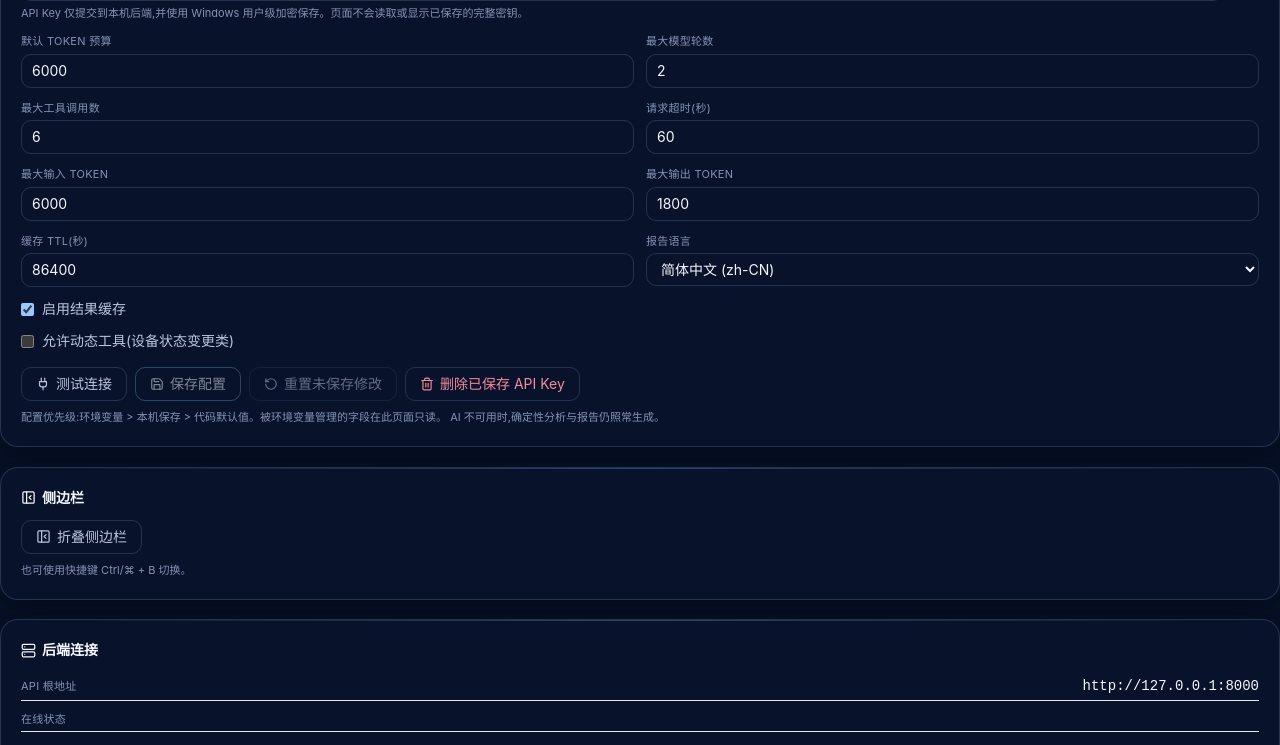
Test: M6B — AI 配置表单 › 测试连接状态 authentication_failed 有中文友好提示
(page scrolled)
Step 1. Click the button with test id "ai-settings-test" → {"x": 74, "y": 384}, box [21,367,127,401]
(page scrolled)
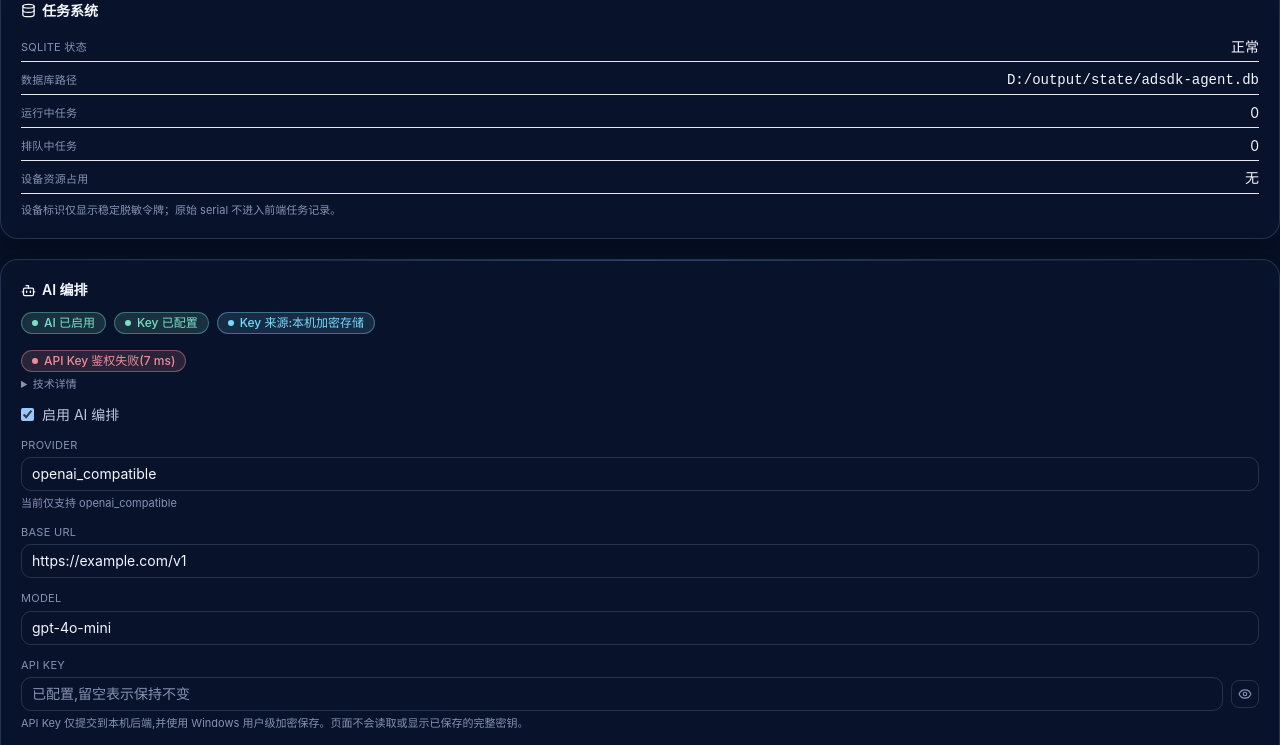
Result: the text "API Key 鉴权失败(7 ms)" is shown at [21,350,186,372]
Result: the heading "技术详情" is shown at [33,377,77,391]
